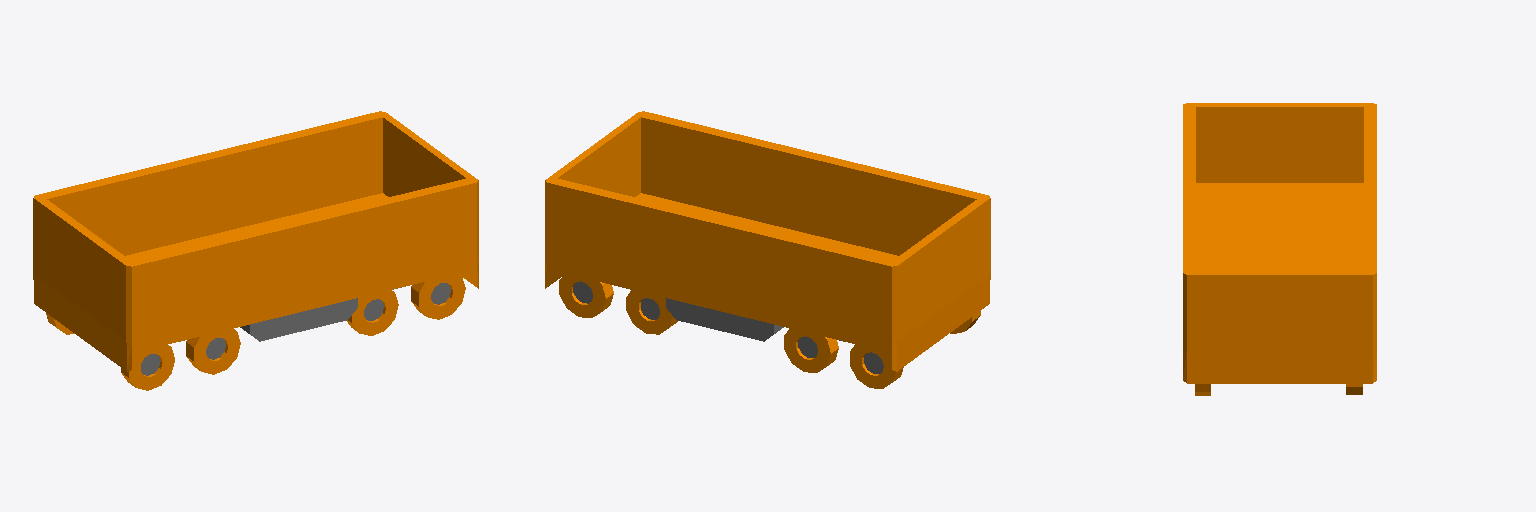
File: Cargo.obj
The picture shows the model from 3 angles: view 1: azimuth 30°, elevation 25°; view 2: azimuth 150°, elevation 25°; view 3: azimuth 270°, elevation 25°; orthographic projection.
Parts seen in each view (by area): view 1: Cargo; view 2: Cargo; view 3: Cargo.
Part boxes in pixels (bbox=[...]): Cargo: bbox=[33, 111, 478, 390]; Cargo: bbox=[545, 111, 990, 388]; Cargo: bbox=[1183, 103, 1376, 395].
Size of the model in its own units: 18.78 by 6.83 by 9.